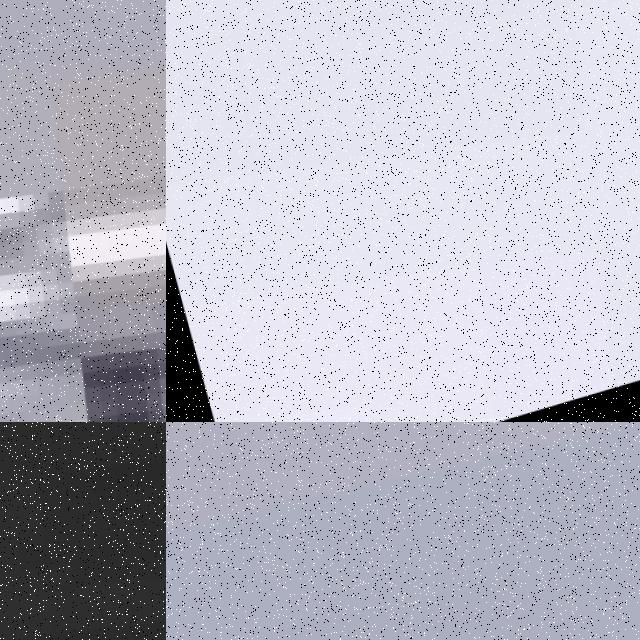0: (166, 0, 640, 422), (0, 0, 166, 422)
drone: (0, 422, 166, 640)
